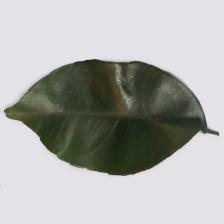healthy: (16, 60, 192, 164)
